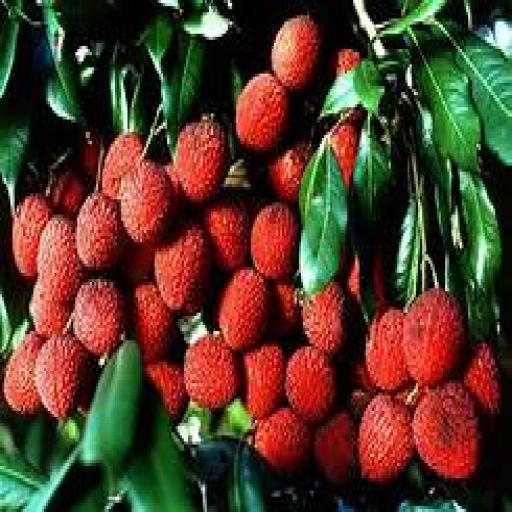lychee: (412, 384, 480, 478), (404, 289, 466, 386), (155, 221, 211, 312), (358, 396, 413, 481), (120, 160, 177, 242), (174, 120, 229, 202), (36, 335, 89, 420), (184, 335, 240, 410), (237, 74, 290, 153), (74, 279, 127, 355), (220, 267, 269, 349), (285, 347, 336, 423), (38, 215, 83, 300), (251, 203, 300, 278), (272, 16, 321, 91), (76, 194, 125, 269), (366, 307, 409, 392), (255, 408, 311, 472), (132, 283, 177, 361), (203, 197, 250, 269), (13, 194, 52, 278), (243, 344, 286, 420), (314, 411, 357, 487), (3, 332, 43, 413), (304, 283, 346, 355), (101, 132, 144, 199), (464, 344, 501, 416), (268, 142, 311, 202), (145, 362, 188, 420), (30, 283, 73, 337), (331, 123, 359, 190), (268, 283, 300, 340), (51, 169, 87, 217), (120, 240, 154, 285), (335, 50, 361, 76)
